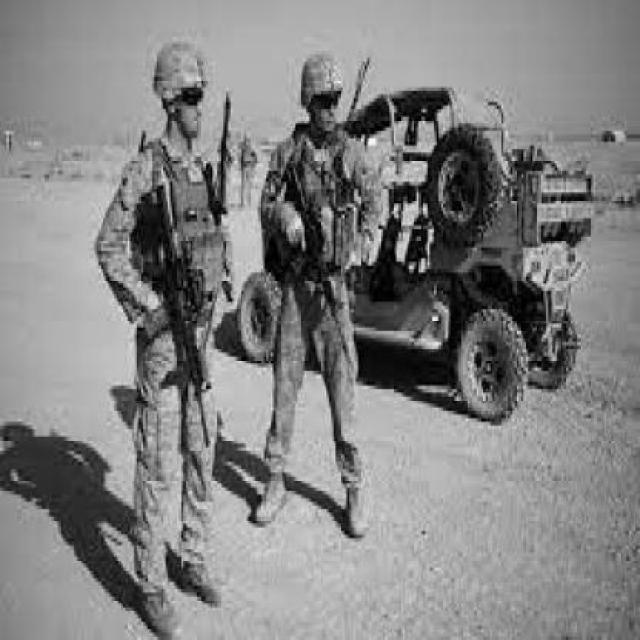Person: (92, 35, 236, 638), (252, 51, 383, 537)
